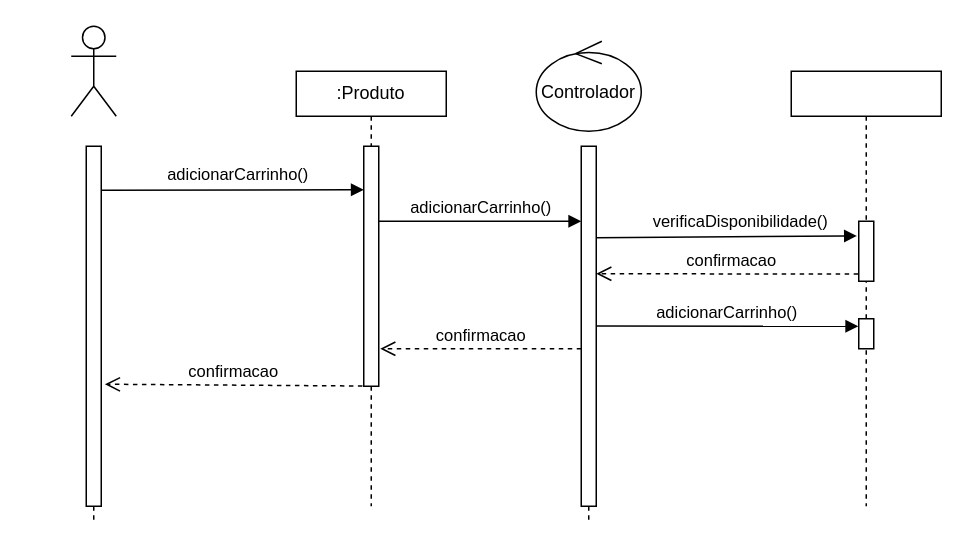
This 968x549 diagram has some shape labels left out. The box of each missing label's shape, as (x1, y1, x2, y2) in pixels:
:Carrinho: (790, 70, 941, 506)
Interface Usuario: (70, 25, 116, 116)
